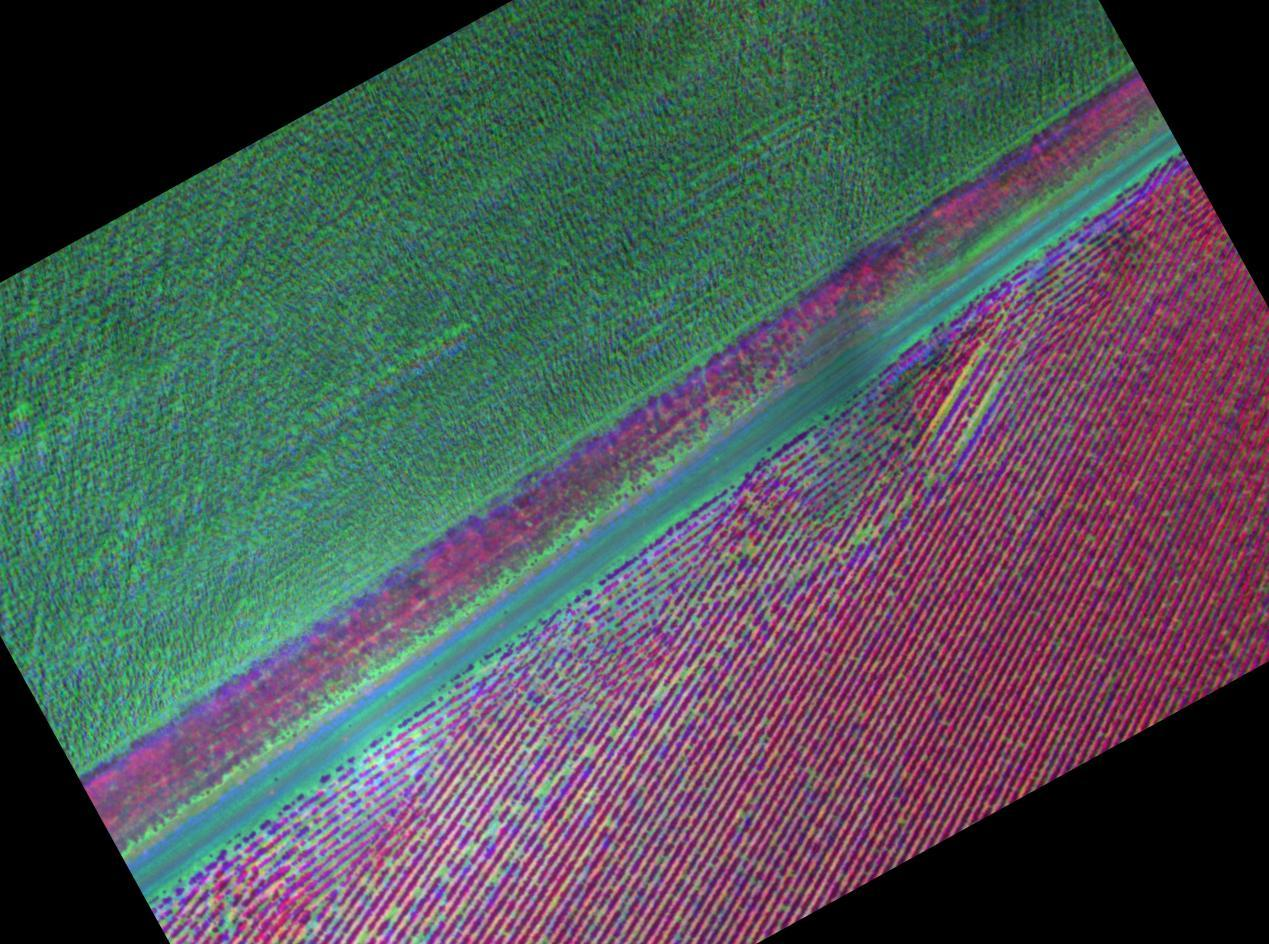dc: (863, 529, 869, 536), (543, 786, 550, 792), (680, 670, 686, 676), (993, 385, 998, 389), (490, 825, 495, 829), (391, 913, 396, 917), (906, 498, 910, 502), (440, 869, 444, 873), (809, 771, 812, 775)
